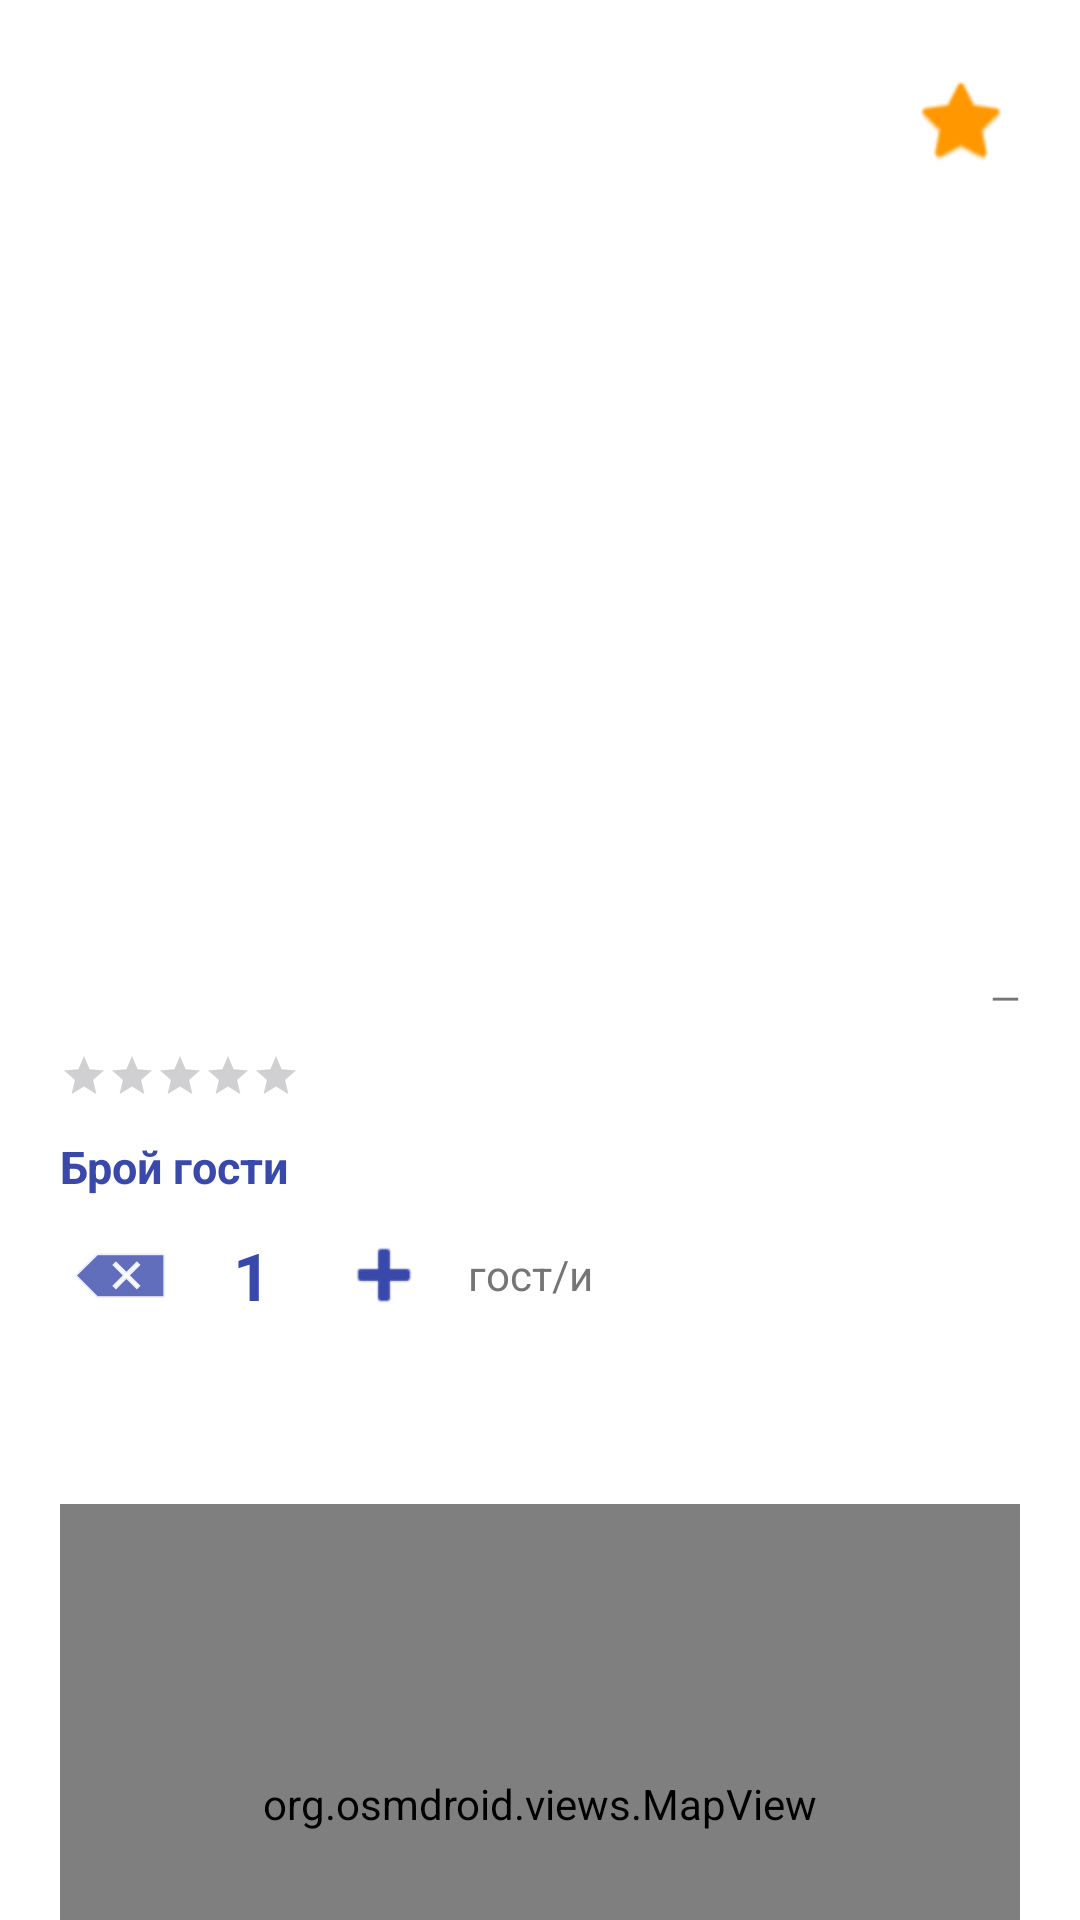

Icon bounding boxes for this 1080px×1920px phone screenshot, format region(x1, y1, x2, y2):
Любими: region(921, 82, 1001, 160)
